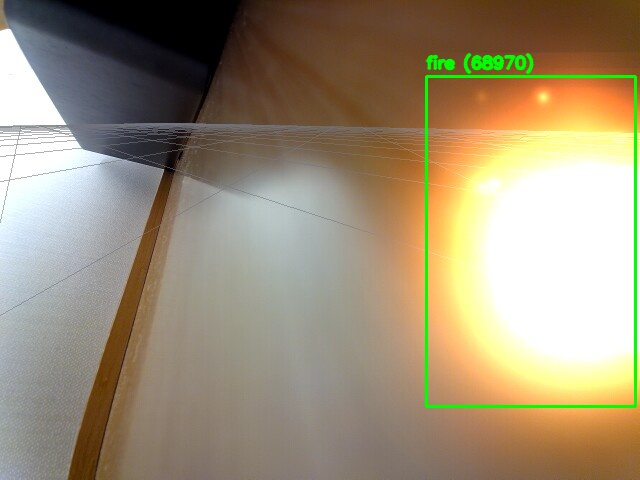fire: (426, 76, 635, 406)
